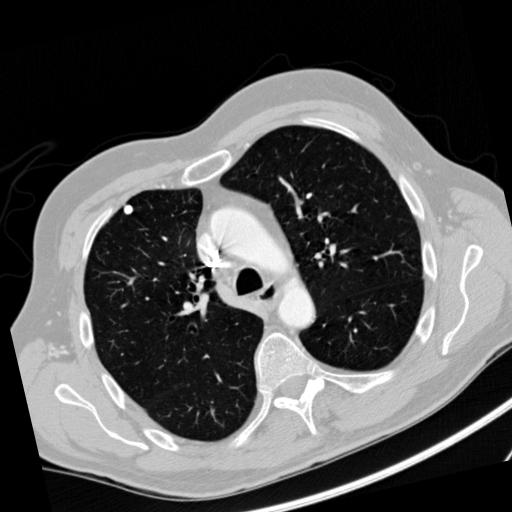nodule: (120, 201, 138, 219)
